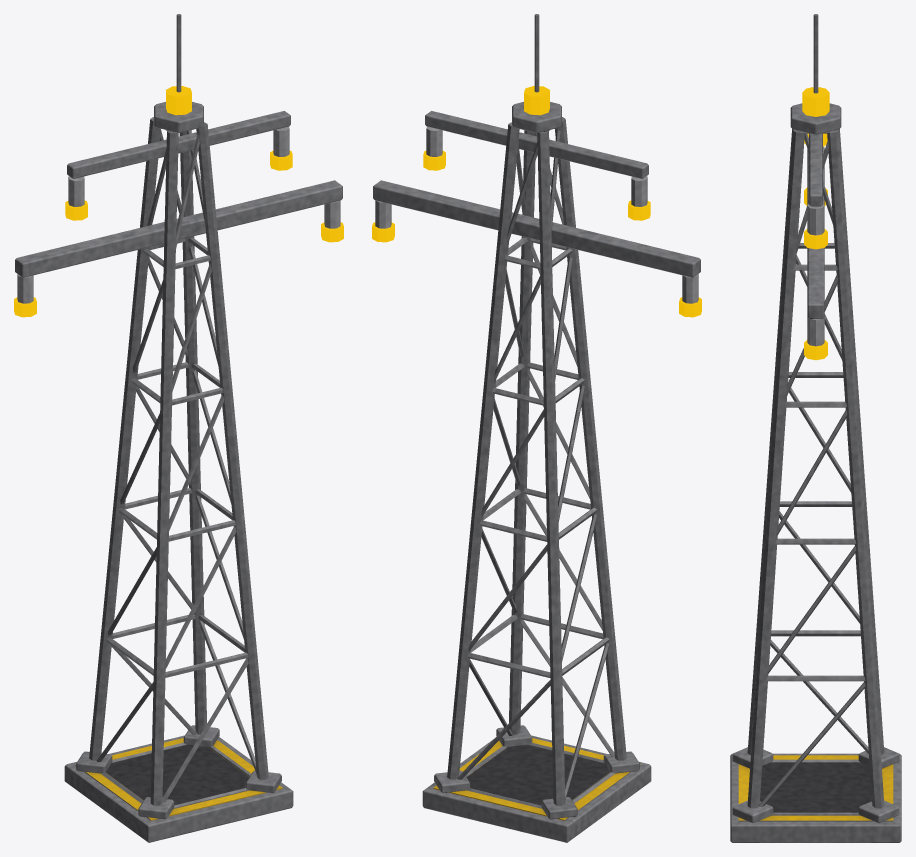
The model's file is nodexeus-pylon.glb.
3 views of the same model, side by side, from view 1: azimuth 30°, elevation 25°; view 2: azimuth 150°, elevation 25°; view 3: azimuth 270°, elevation 25° (orthographic).
Parts seen in each view (by area): view 1: pylon; view 2: pylon; view 3: pylon.
Boxes of the visible parts, <box> form: pylon: <box>14,14,343,842</box>; pylon: <box>372,14,701,842</box>; pylon: <box>730,14,901,842</box>.
Bounding box in the file's own units: 2.24 × 5.1 × 1.
1 material, 1 textured.
